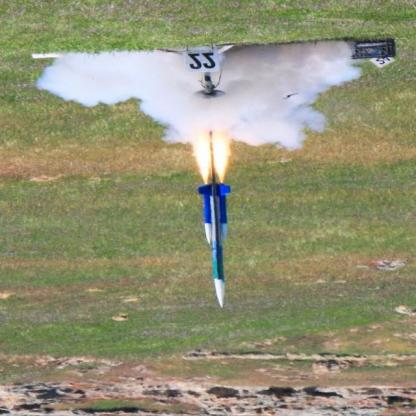MIL_TBM: (208, 169, 228, 317), (218, 182, 232, 242)
